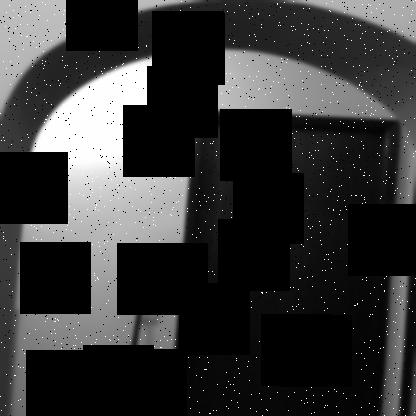Porte: (167, 108, 405, 415)
